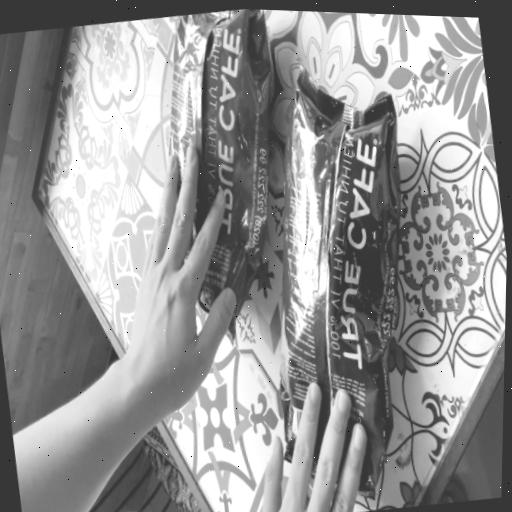cafe_hat: (280, 67, 401, 491)
cafe_xay: (169, 9, 272, 338)
